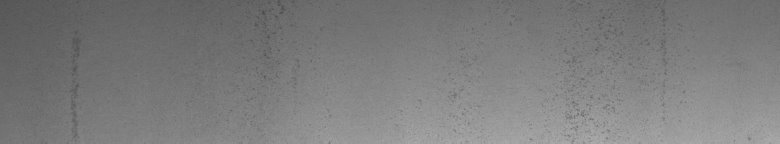ib: (565, 40, 667, 133)
